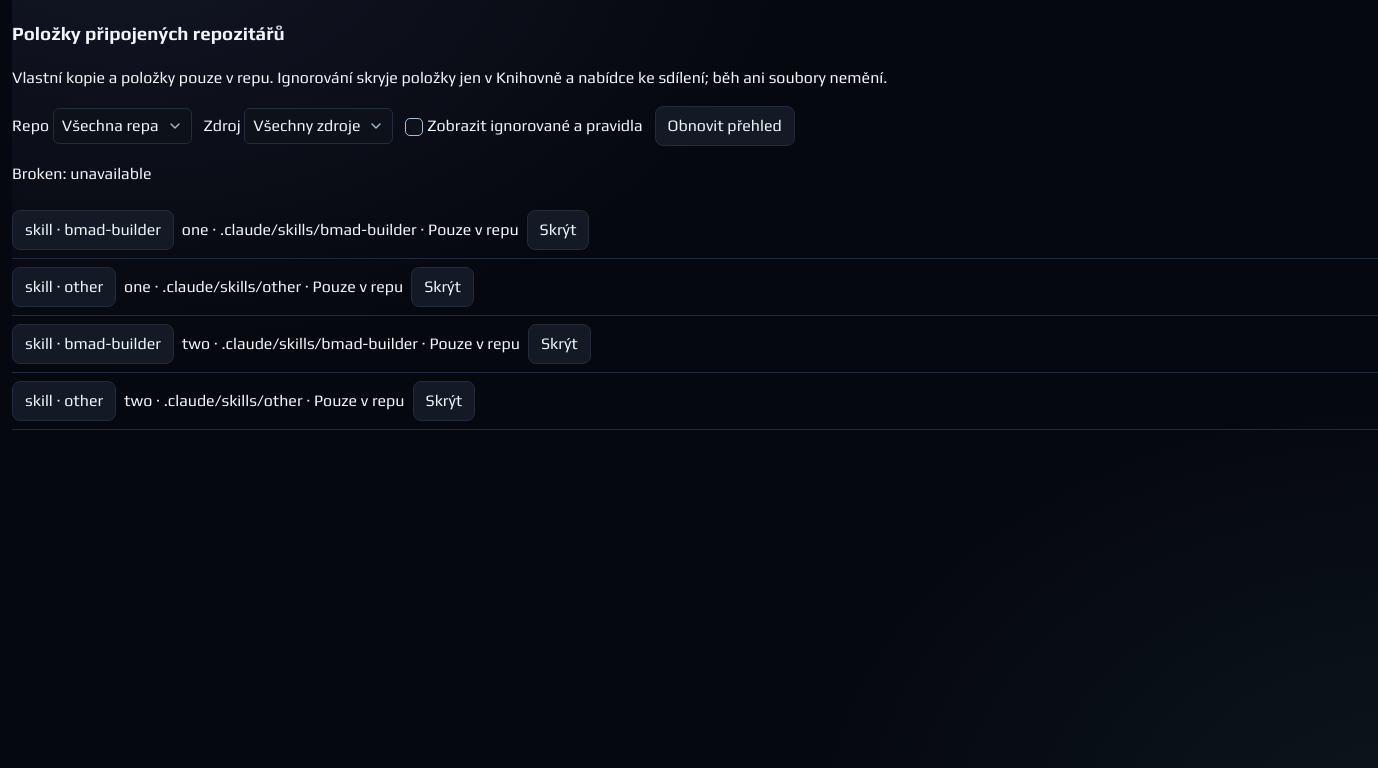
Scenario: saves a repo-wide BMAD prefix and keeps the other repo visible
Step 1. Click the dropdown labelled "Všechna repa" → (122, 126), box [53,108,192,144]
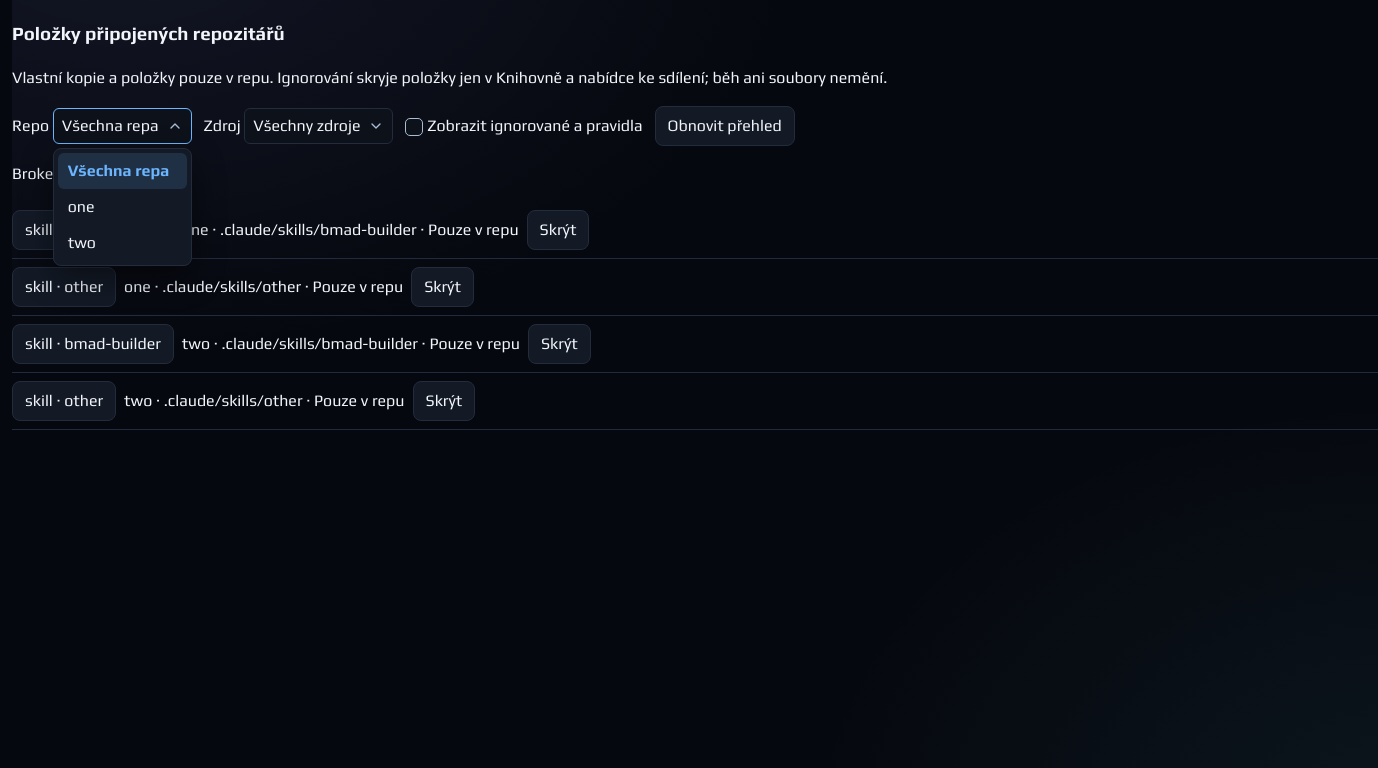
Step 2. Click the option "one" → (81, 206), box [68,196,94,216]
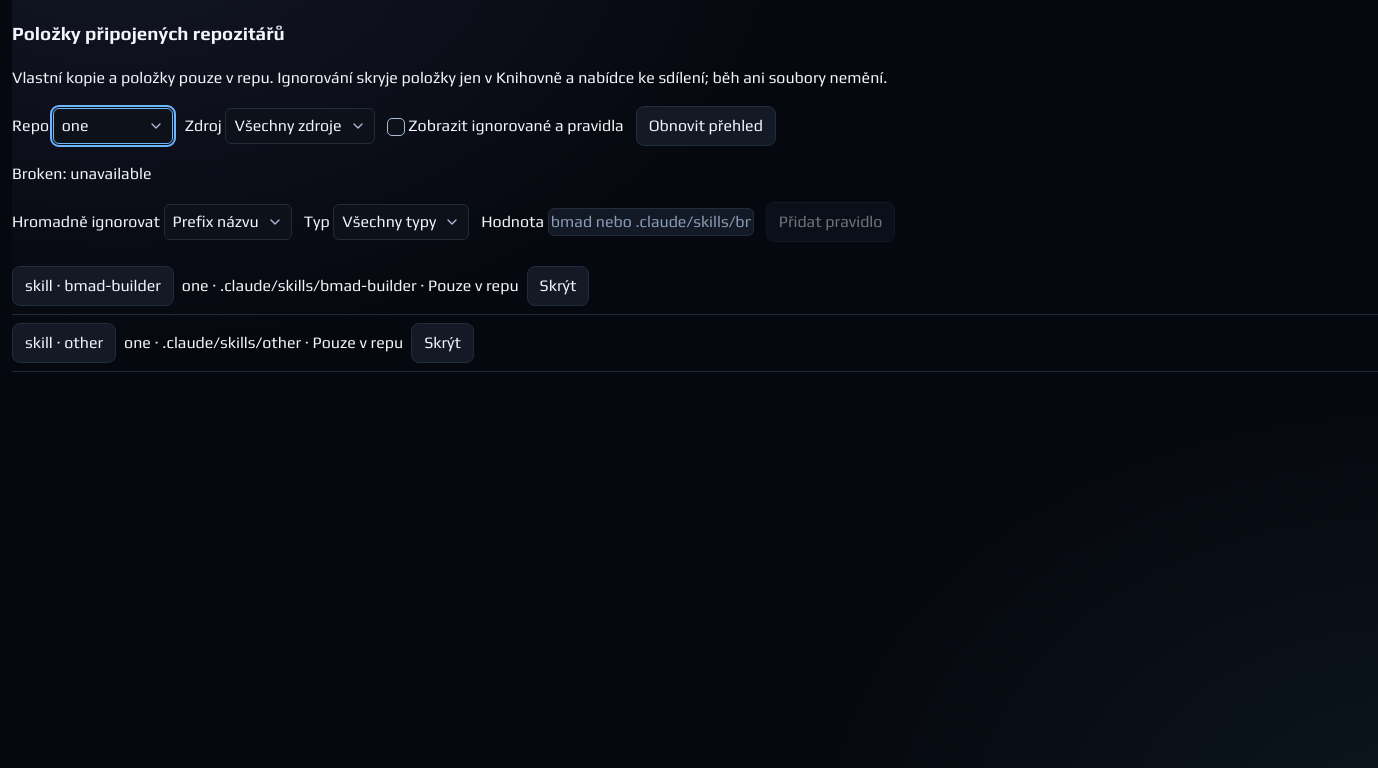
Step 3. Type "bmad-" into the field with test id "ignore-value" → (651, 222), box [548,208,754,236]
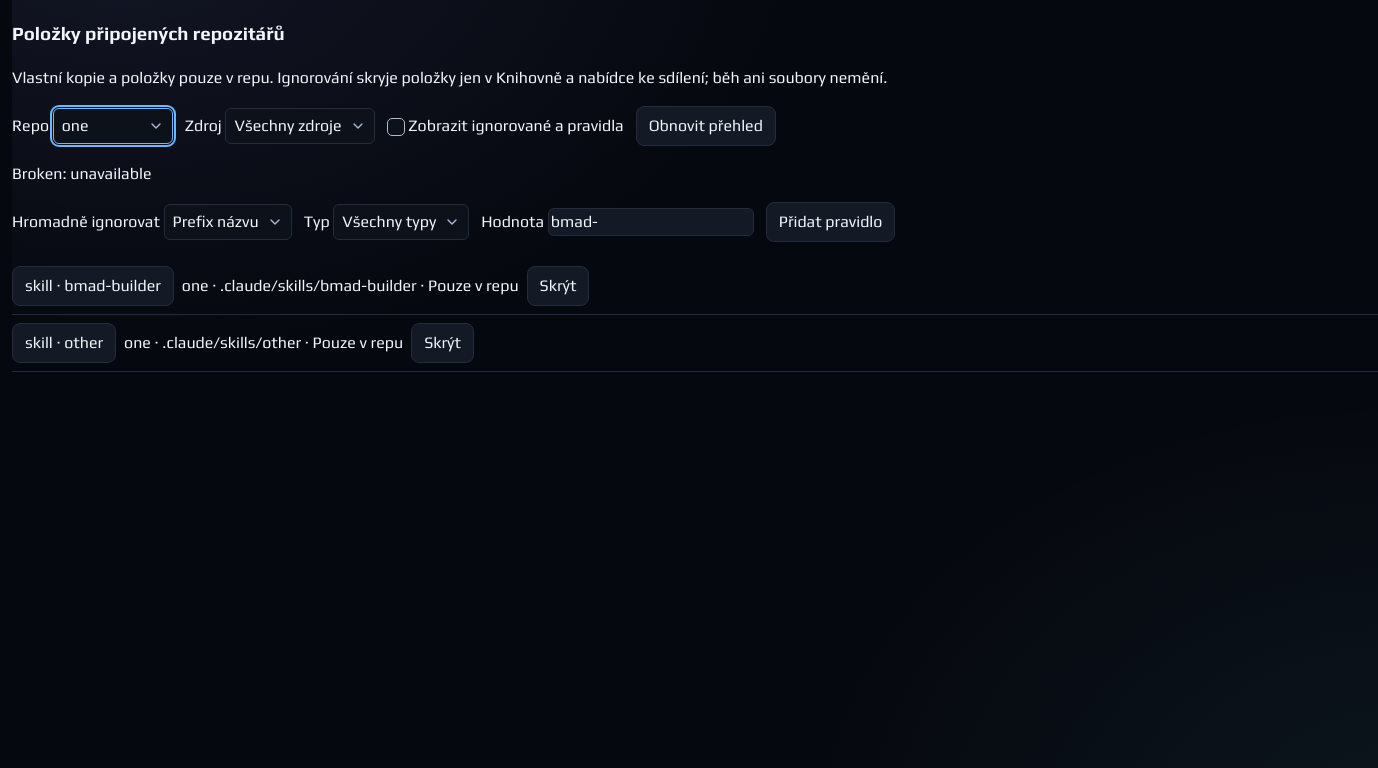
Step 4. Submit the form, box [12,202,895,242]
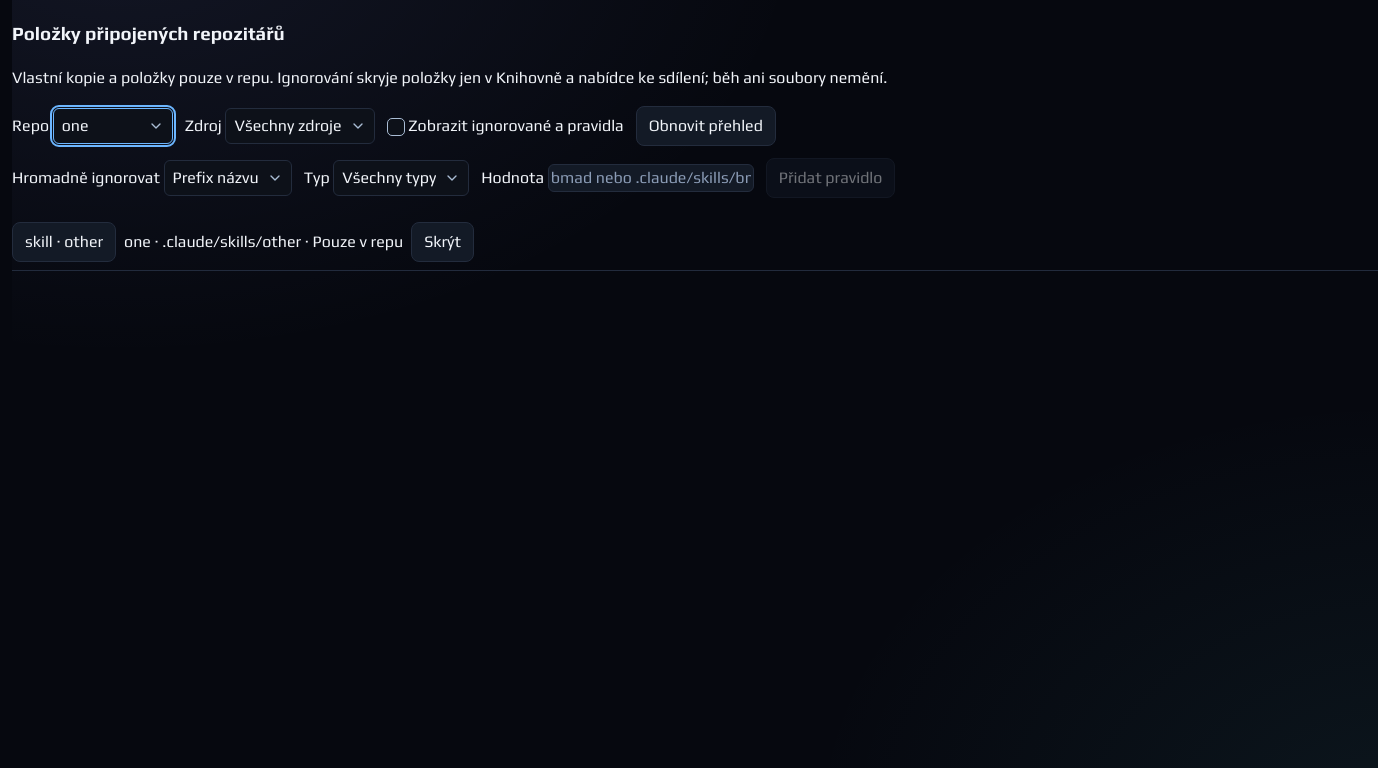
Result: the number of list items with test id "inventory-item" is 1 at [12,214,1377,270]
Step 5. Click the dropdown labelled "one" → (113, 126), box [53,108,173,144]
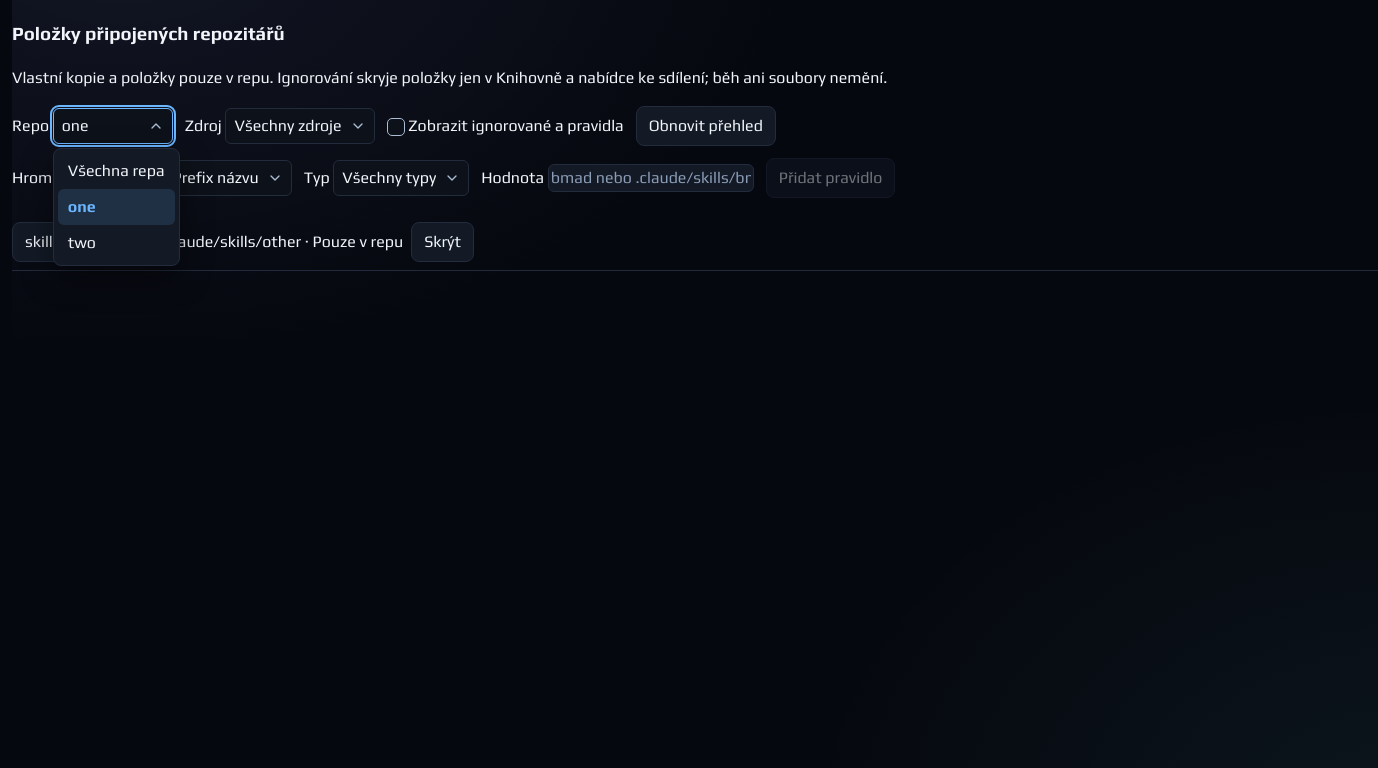
Step 6. Click the option "two" → (82, 242), box [68,232,96,252]
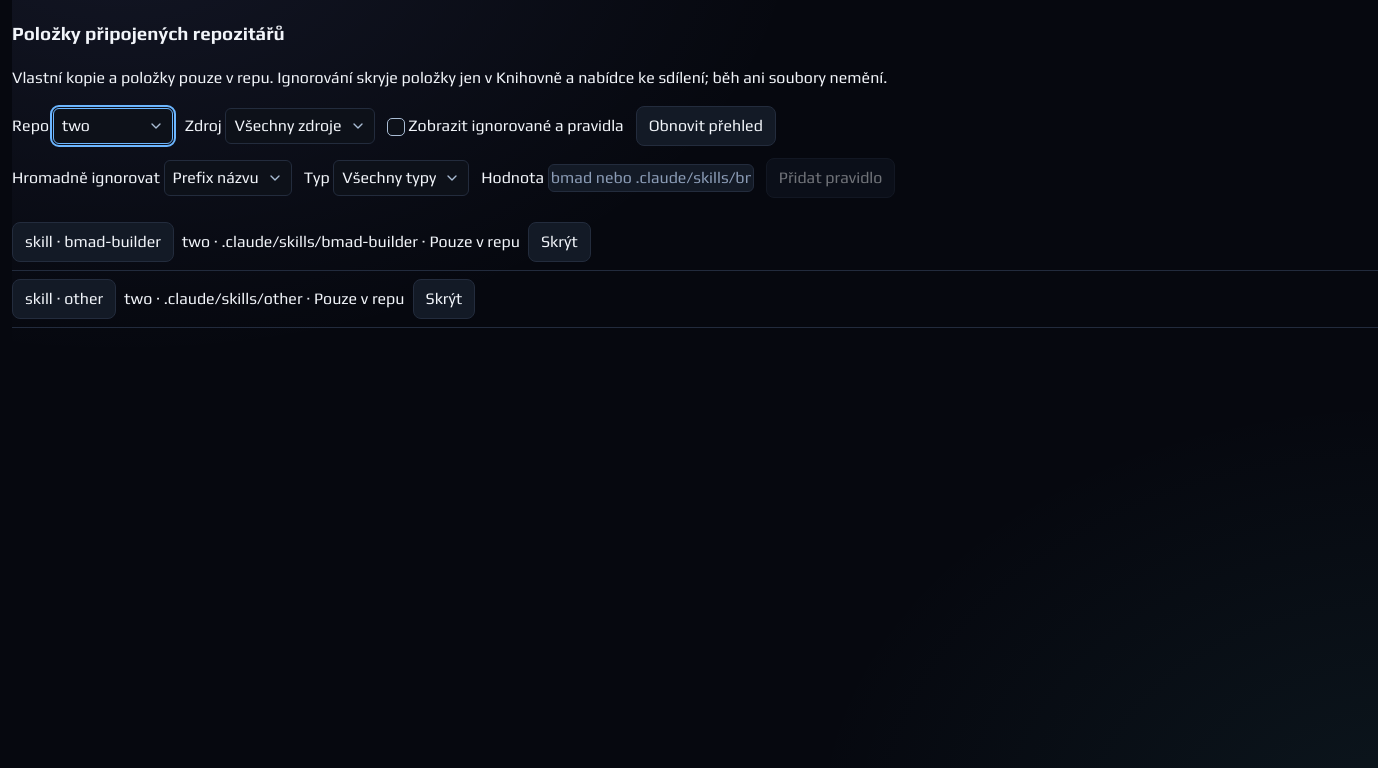
Result: the number of list items with test id "inventory-item" is 2 at [12,214,1377,270]; [12,270,1377,328]
